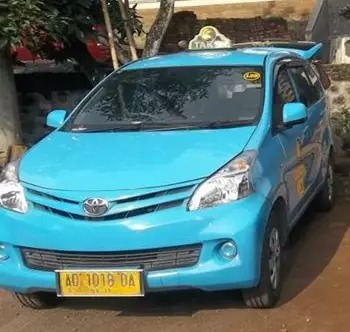plat nomor: (56, 265, 145, 298)
